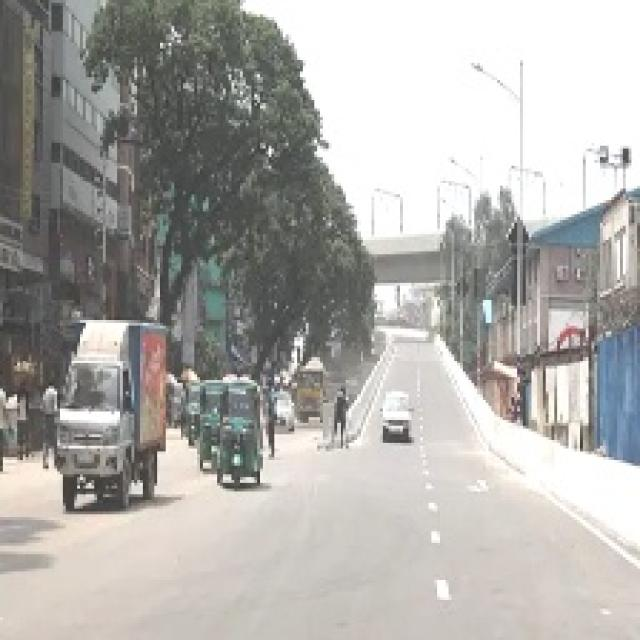car: (57, 339, 153, 506), (378, 388, 416, 449), (272, 385, 296, 436)
